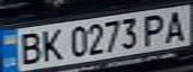0: (66, 22, 90, 58)
2: (84, 20, 106, 56)
3: (118, 15, 142, 49)
7: (103, 17, 124, 53)
A: (160, 8, 193, 43)
B: (12, 29, 45, 65)
K: (36, 26, 66, 62)
P: (139, 11, 172, 46)
